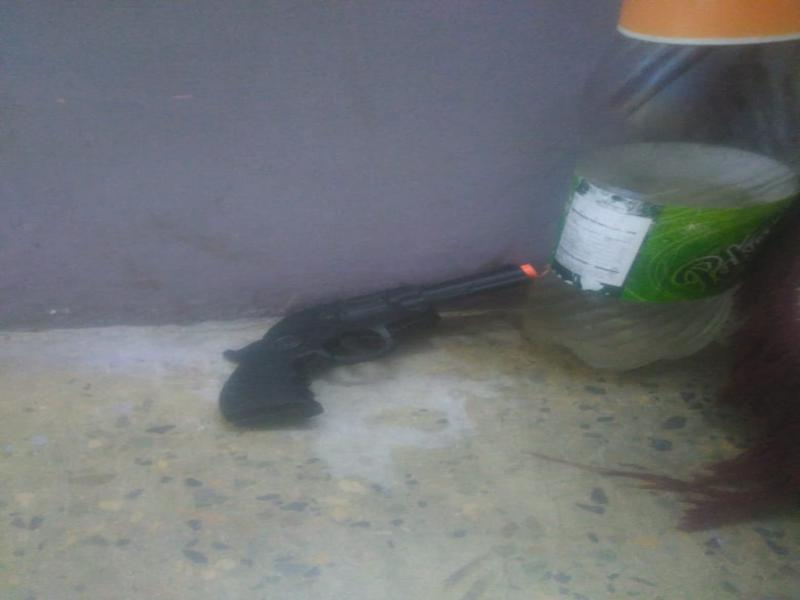gun: (213, 256, 563, 441)
